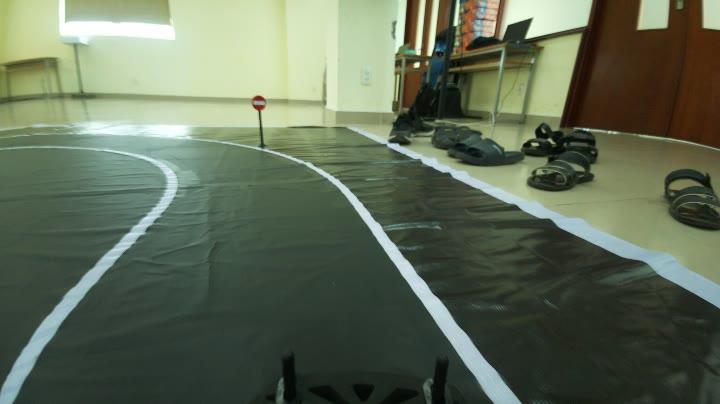no_entry: (247, 92, 269, 113)
